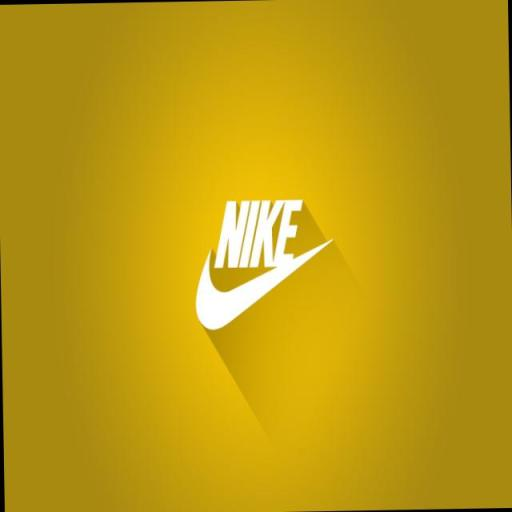Nike: (196, 262, 310, 330), (212, 199, 304, 271)
